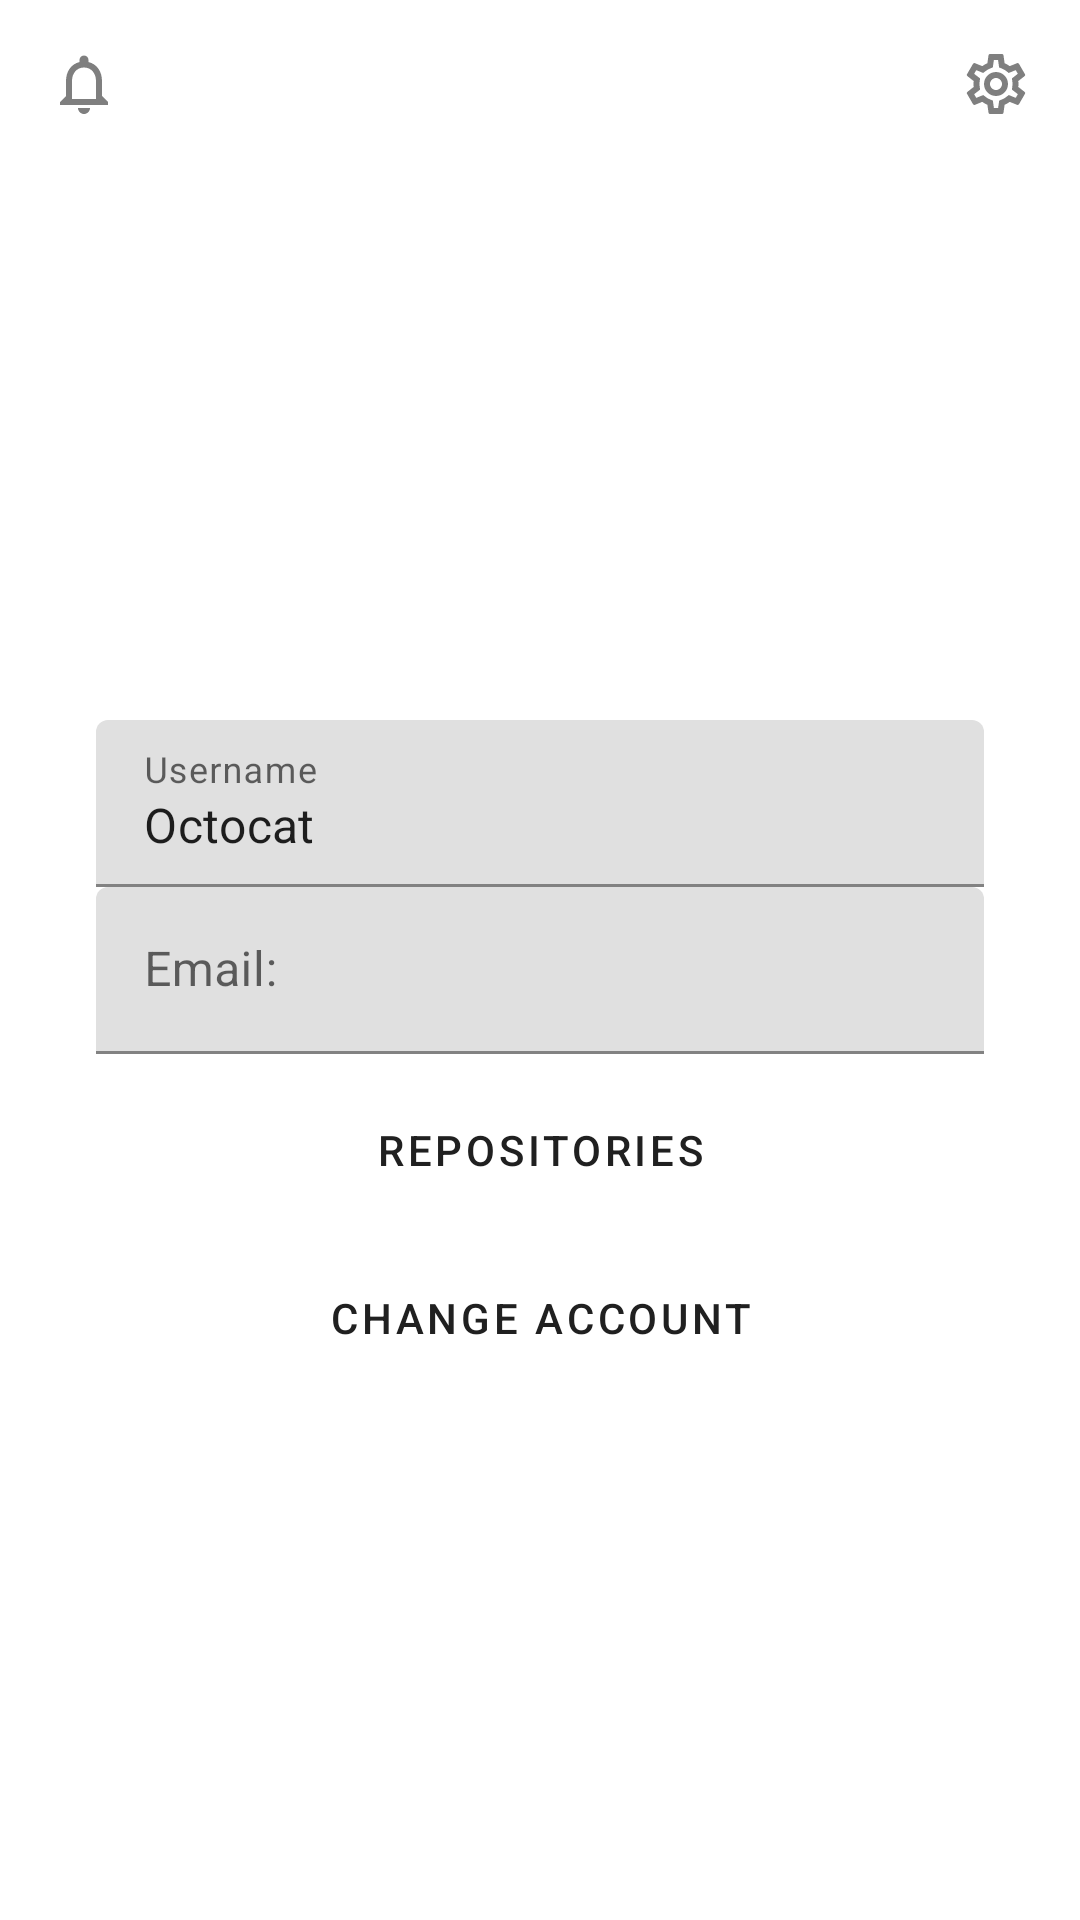

Point at icon controls on the screen. Image size 1080px×1920px, points as (x,y).
notifications: (84,84)
settings: (996,84)
